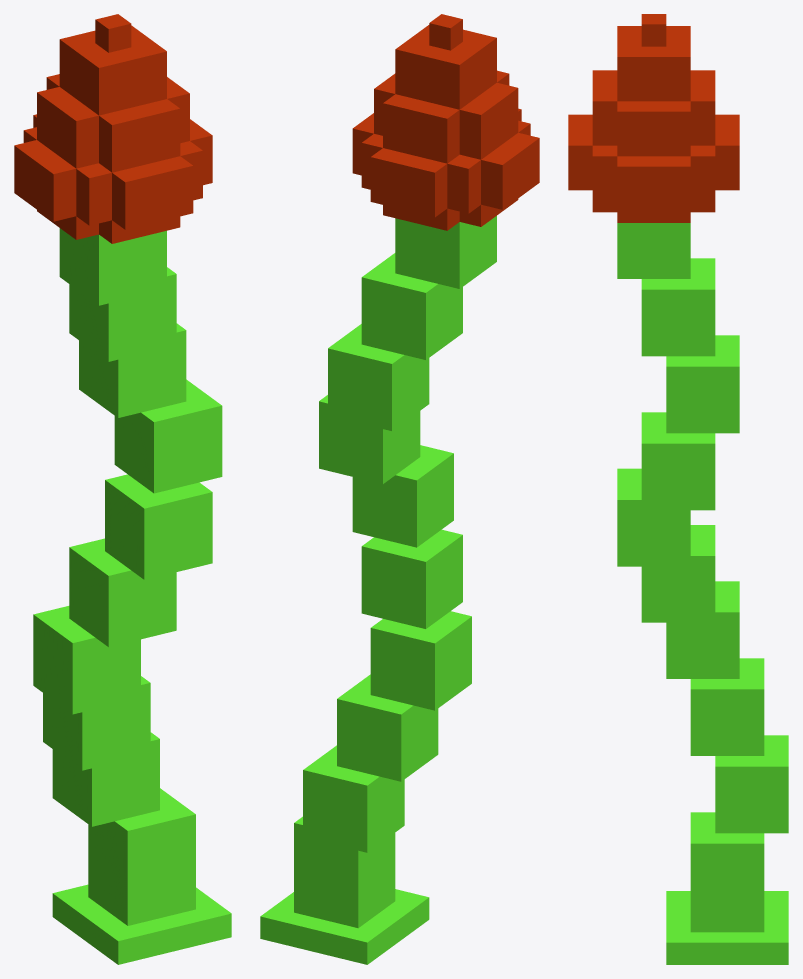
File: Plant3.dae
The picture shows the model from 3 angles, left to right: view 1: azimuth 30°, elevation 25°; view 2: azimuth 150°, elevation 25°; view 3: azimuth 270°, elevation 25°; orthographic projection. The views are drawn at different scales.
Parts seen in each view (by area): view 1: plant3.skinnyplant3; view 2: plant3.skinnyplant3; view 3: plant3.skinnyplant3.
Part boxes in pixels (box(x1,y1,x2,y2)): plant3.skinnyplant3: box(14, 14, 231, 964); plant3.skinnyplant3: box(260, 14, 539, 964); plant3.skinnyplant3: box(568, 14, 788, 964).
Bounding box in the file's own units: 0.9 × 4 × 0.9.
Materials: 1 (1 with a texture image).
